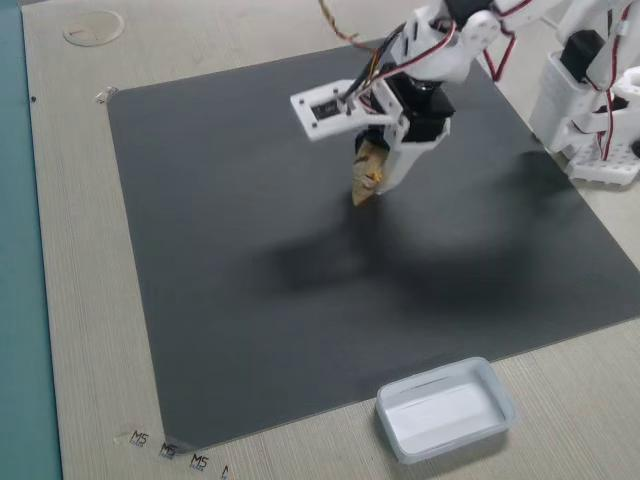objects: (303, 76, 457, 193)
